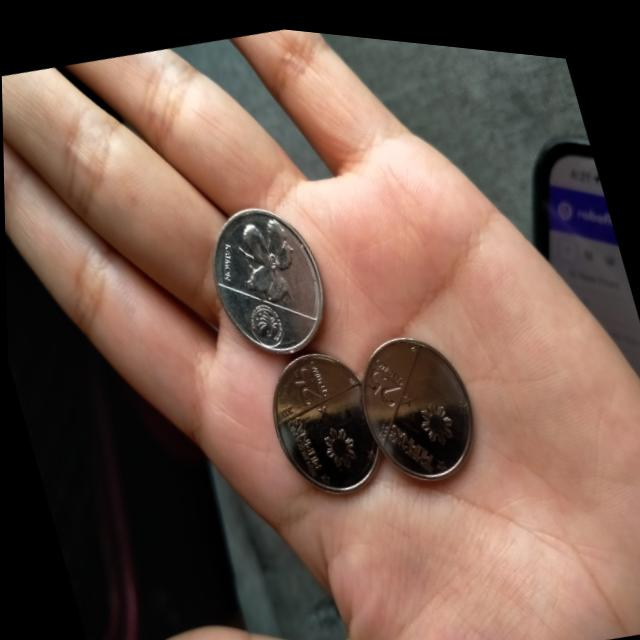25Cent_New_Back: (223, 207, 309, 298)
25Cent_New_Front: (281, 343, 334, 402), (357, 351, 402, 409)
